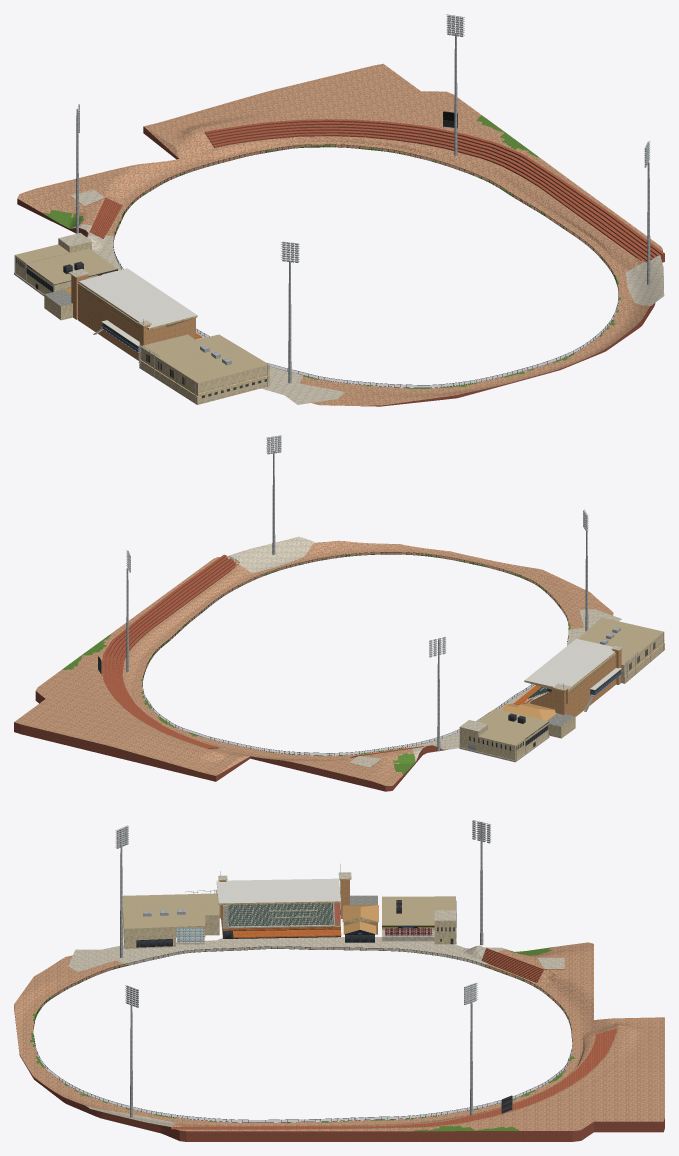
File: leederville_oval.glb
3 renders of one model, top to bottom at view 1: azimuth 30°, elevation 25°; view 2: azimuth 150°, elevation 25°; view 3: azimuth 270°, elevation 25°, orthographic. The views are drawn at different scales.
Visible parts, largest first — view 1: outer_ground, east_terrace, sb_main, gs_roof, fence_mesh, gs_back, ms_roof, outer_paved_se, bank_edge, outer_paved0, ms_n_block, fence_rail_top (+2 smaller); view 2: outer_ground, east_terrace, bank_edge, gs_roof, sb_main, outer_paved_se, fence_mesh, ms_roof, ms_n_block, gs_back, ms_tower, b6703 (+1 smaller); view 3: outer_ground, bank_edge, sb_main, gs_roof, east_terrace, fence_mesh, gs_seats, gs_rake, ms_roof, outer_paved0, gs_awning, ms_tower (+3 smaller).
Boxes of the visible parts, bbox=[...] form: outer_ground: bbox=[17, 63, 662, 405]; east_terrace: bbox=[204, 119, 664, 262]; sb_main: bbox=[139, 334, 269, 404]; gs_roof: bbox=[78, 268, 197, 329]; fence_mesh: bbox=[114, 145, 617, 387]; gs_back: bbox=[78, 283, 164, 343]; ms_roof: bbox=[26, 248, 117, 284]; outer_paved_se: bbox=[625, 255, 664, 305]; bank_edge: bbox=[17, 126, 662, 406]; outer_paved0: bbox=[269, 380, 344, 404]; ms_n_block: bbox=[14, 244, 69, 280]; fence_rail_top: bbox=[113, 144, 618, 385]; outer_ground: bbox=[14, 540, 613, 785]; east_terrace: bbox=[102, 554, 237, 748]; bank_edge: bbox=[14, 691, 447, 791]; gs_roof: bbox=[524, 638, 615, 690]; sb_main: bbox=[582, 617, 664, 683]; outer_paved_se: bbox=[228, 536, 313, 573]; fence_mesh: bbox=[144, 552, 567, 754]; ms_roof: bbox=[477, 708, 548, 738]; ms_n_block: bbox=[478, 729, 524, 760]; gs_back: bbox=[551, 653, 616, 714]; ms_tower: bbox=[459, 720, 487, 751]; b6703: bbox=[547, 713, 575, 738]; outer_ground: bbox=[14, 937, 664, 1131]; bank_edge: bbox=[14, 1006, 664, 1141]; sb_main: bbox=[122, 893, 219, 948]; gs_roof: bbox=[216, 878, 341, 904]; east_terrace: bbox=[171, 1028, 617, 1129]; fence_mesh: bbox=[36, 946, 571, 1121]; gs_seats: bbox=[228, 903, 333, 926]; gs_rake: bbox=[228, 903, 335, 928]; ms_roof: bbox=[382, 896, 434, 926]; outer_paved0: bbox=[68, 949, 128, 971]; gs_awning: bbox=[233, 929, 341, 937]; ms_tower: bbox=[434, 910, 455, 944].
Size of the model in its own units: 194 by 52.34 by 229.
Materials: 35 (35 with a texture image).
